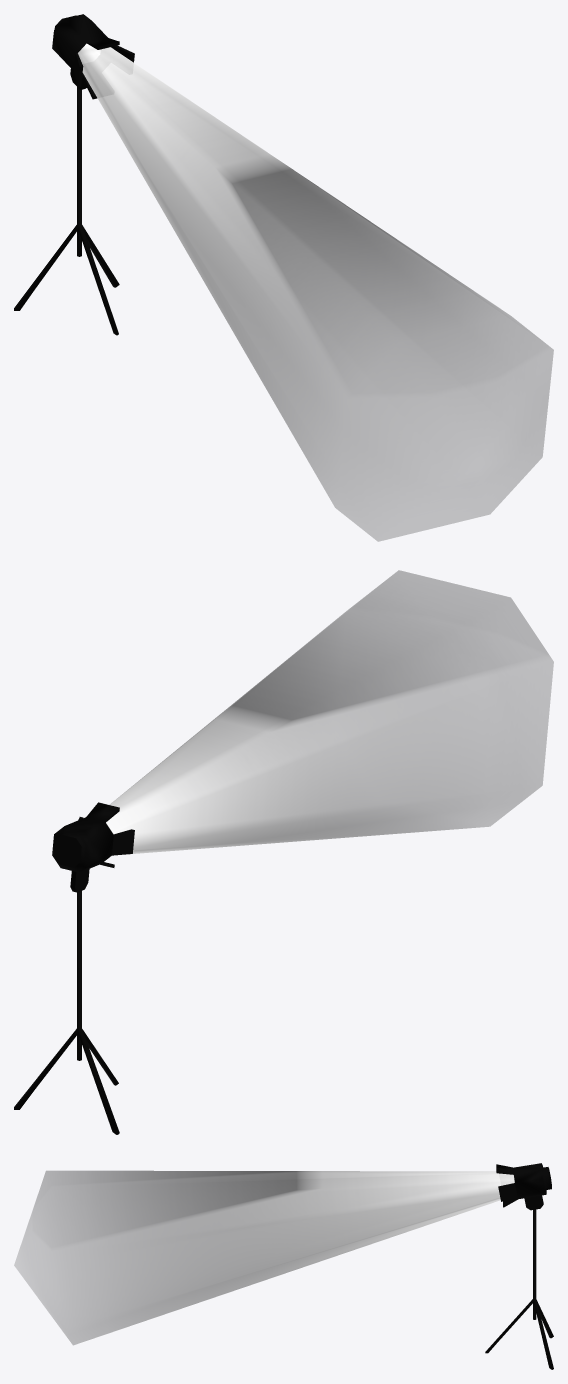
Rendered from LightingStandOnWhite.glb.
3 views of the same model, one above another, from view 1: azimuth 30°, elevation 25°; view 2: azimuth 150°, elevation 25°; view 3: azimuth 270°, elevation 25° (orthographic). The views are drawn at different scales.
Parts seen in each view (by area): view 1: LightingStandOnWhite; view 2: LightingStandOnWhite; view 3: LightingStandOnWhite.
Part boxes in pixels (box(x1,y1,x2,y2)): LightingStandOnWhite: box(14, 14, 553, 541); LightingStandOnWhite: box(14, 570, 553, 1134); LightingStandOnWhite: box(14, 1163, 553, 1369).
Size of the model in its own units: 2.58 by 3.41 by 8.91.
Materials: 3 (3 with a texture image).
